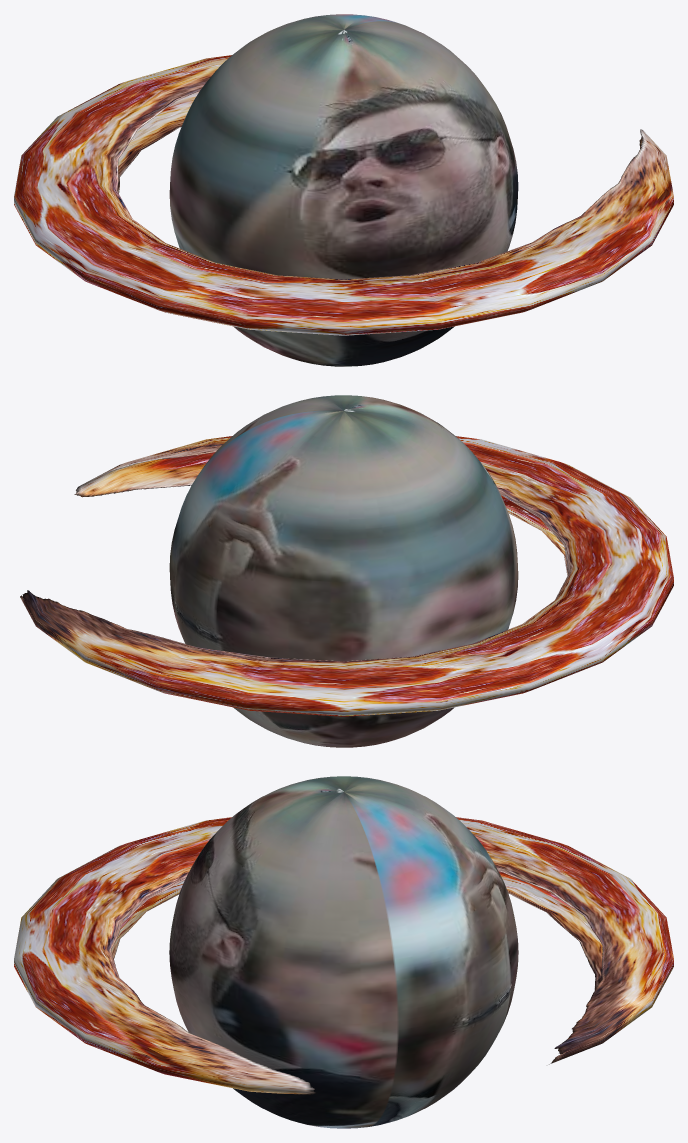
File: Joopieter.fbx
3 views of the same model, one above another, from view 1: azimuth 30°, elevation 25°; view 2: azimuth 150°, elevation 25°; view 3: azimuth 270°, elevation 25° (orthographic).
Parts seen in each view (by area): view 1: pSphere1, pTorus1; view 2: pSphere1, pTorus1; view 3: pSphere1, pTorus1.
Boxes of the visible parts, x1,y1,x2,y2 form: pSphere1: (169,14,518,366); pTorus1: (14,55,673,335); pSphere1: (169,395,518,747); pTorus1: (20,436,673,716); pSphere1: (169,776,518,1128); pTorus1: (14,817,673,1094).
Bounding box in the file's own units: 3.71 × 2 × 3.72.
2 materials, 2 textured.
